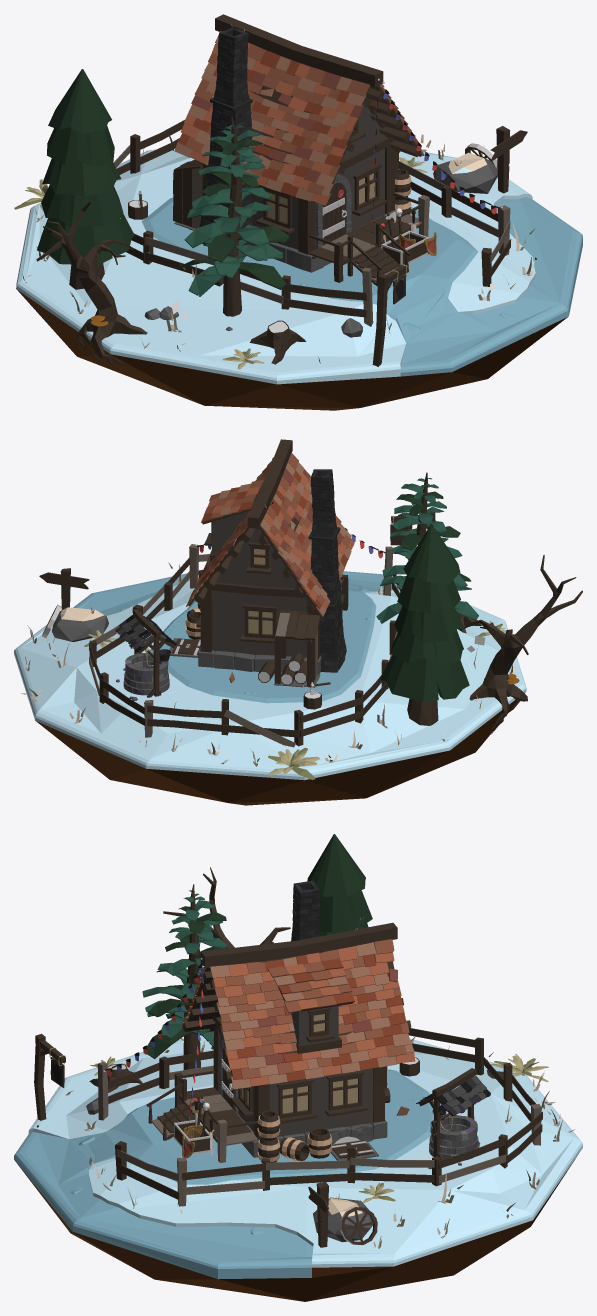
File: fantasy_land.glb
The picture shows the model from 3 angles, top to bottom: view 1: azimuth 30°, elevation 25°; view 2: azimuth 150°, elevation 25°; view 3: azimuth 270°, elevation 25°; orthographic projection. The views are drawn at different scales.
Size of the model in its own units: 3135 by 1910 by 2928.
Materials: 58 (1 with a texture image).
